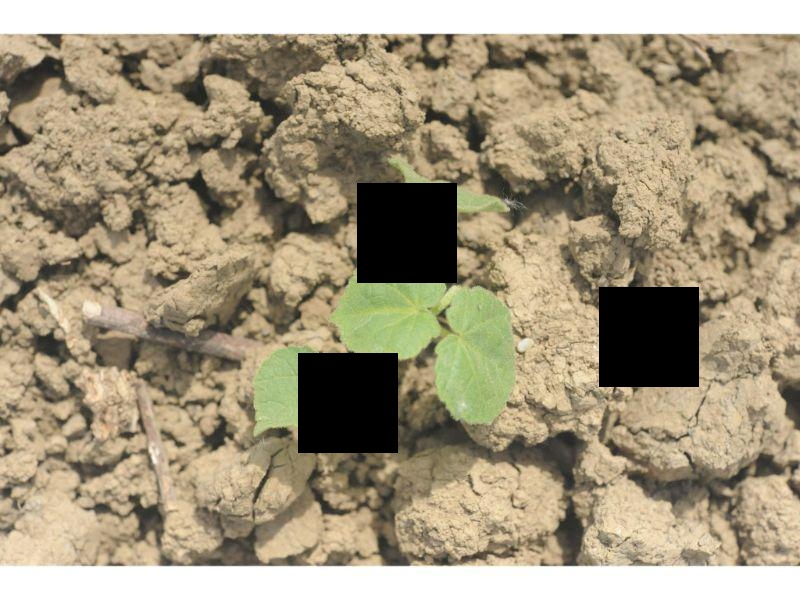velvet: (255, 153, 516, 443)
